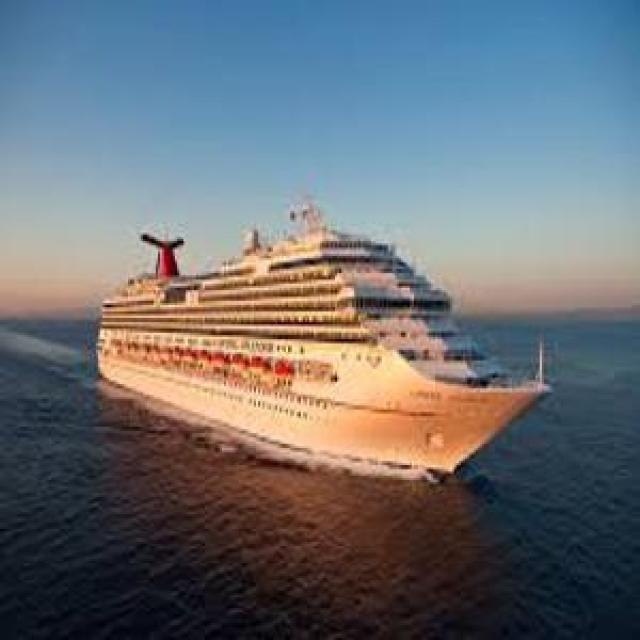passenger ship: (90, 206, 547, 474)
